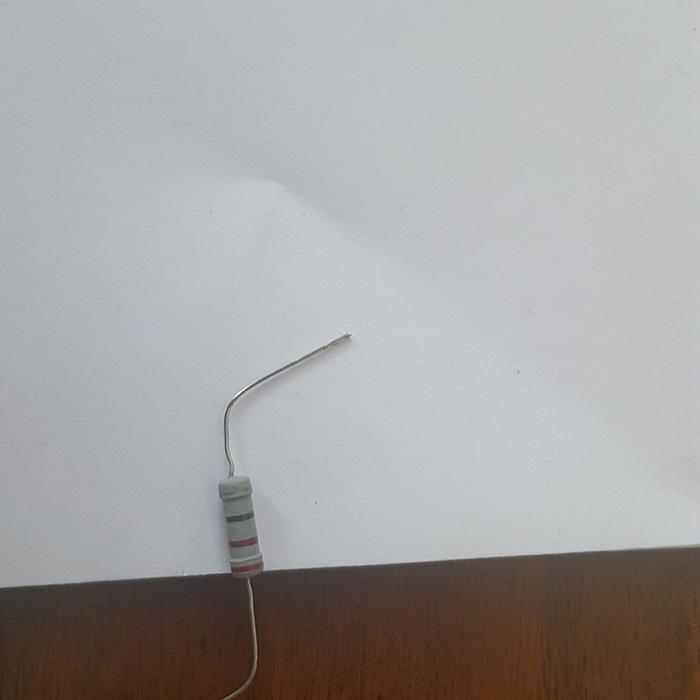resistor: (216, 471, 265, 578)
